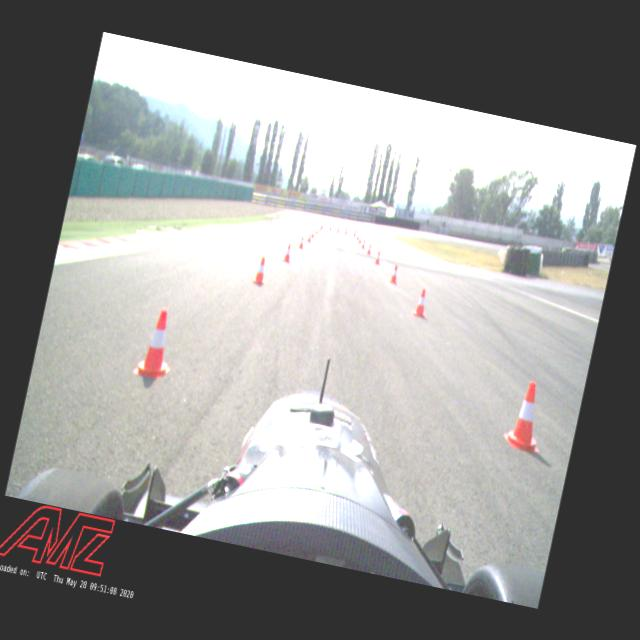large_orange_cone: (319, 219, 325, 230), (328, 222, 333, 230), (336, 222, 340, 232), (344, 225, 348, 234), (352, 228, 357, 235)
orange_cone: (499, 376, 554, 454), (133, 304, 181, 383), (412, 286, 431, 318), (252, 254, 270, 287), (388, 263, 400, 284), (282, 242, 294, 262), (297, 234, 306, 250), (372, 250, 382, 264), (305, 231, 312, 243), (366, 243, 372, 254), (310, 228, 316, 238), (361, 238, 366, 248), (314, 226, 318, 234), (318, 224, 322, 232), (358, 236, 362, 243), (356, 233, 360, 239)
